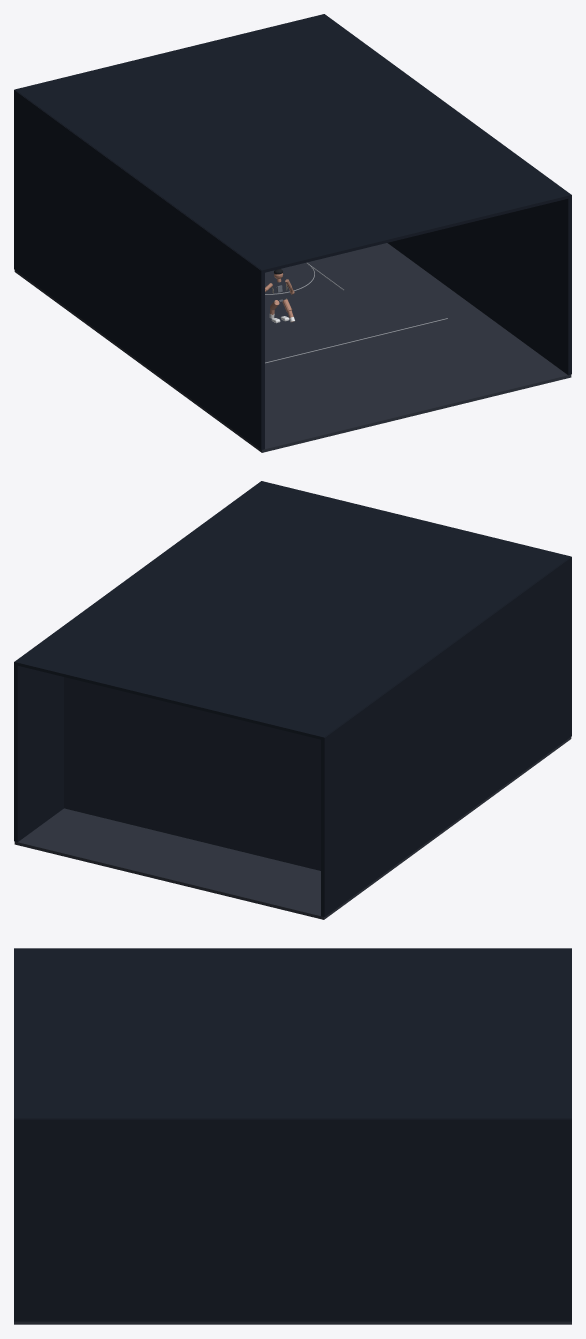
3 views of the same model, one above another, from view 1: azimuth 30°, elevation 25°; view 2: azimuth 150°, elevation 25°; view 3: azimuth 270°, elevation 25° (orthographic). The views are drawn at different scales.
Visible parts, largest first — view 1: High dark ceiling, Left blackout wall, Court floor, Right blackout wall; view 2: High dark ceiling, Left blackout wall, Back wall, Court floor, Right blackout wall; view 3: Right blackout wall, High dark ceiling, Court floor.
Boxes of the visible parts, bbox=[...] form: High dark ceiling: bbox=[15, 14, 571, 273]; Left blackout wall: bbox=[14, 89, 264, 449]; Court floor: bbox=[14, 243, 571, 452]; Right blackout wall: bbox=[324, 14, 571, 375]; High dark ceiling: bbox=[14, 481, 570, 740]; Left blackout wall: bbox=[321, 556, 571, 916]; Back wall: bbox=[64, 677, 320, 870]; Court floor: bbox=[14, 737, 571, 919]; Right blackout wall: bbox=[14, 481, 261, 842]; Right blackout wall: bbox=[14, 1119, 571, 1321]; High dark ceiling: bbox=[14, 948, 571, 1118]; Court floor: bbox=[14, 1321, 571, 1324].
Bounding box in the file's own units: 13.06 × 7.33 × 18.
